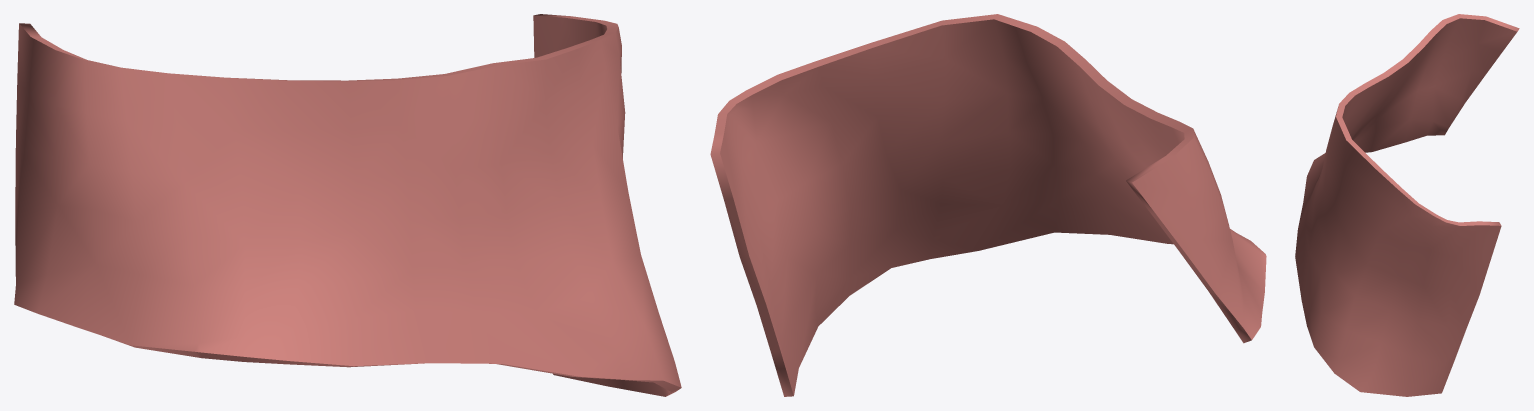
3 renders of one model, left to right at view 1: azimuth 30°, elevation 25°; view 2: azimuth 150°, elevation 25°; view 3: azimuth 270°, elevation 25°, orthographic. The views are drawn at different scales.
Parts seen in each view (by area): view 1: ZA_b31c0ddb48b97f9b; view 2: ZA_b31c0ddb48b97f9b; view 3: ZA_b31c0ddb48b97f9b.
Part boxes in pixels (x1,y1,x2,y2): ZA_b31c0ddb48b97f9b: (14, 14, 681, 396); ZA_b31c0ddb48b97f9b: (710, 14, 1266, 396); ZA_b31c0ddb48b97f9b: (1295, 14, 1519, 396).
Size of the model in its own units: 0.0604 by 0.0411 by 0.0343.
